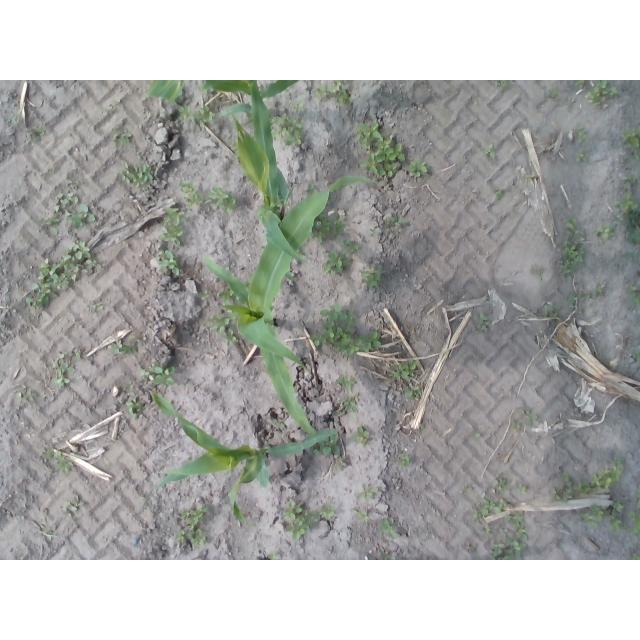Maize: (201, 177, 376, 436), (148, 390, 337, 523), (234, 80, 306, 286), (200, 80, 300, 116), (146, 80, 186, 102)
Weeds: (26, 239, 103, 314), (309, 304, 383, 357), (551, 455, 626, 502), (39, 177, 97, 232), (357, 121, 407, 178), (283, 497, 336, 541), (486, 511, 530, 558), (558, 214, 587, 283), (173, 503, 211, 549), (49, 346, 86, 390), (325, 238, 364, 279), (612, 194, 640, 245), (271, 114, 307, 150), (206, 311, 238, 346), (118, 160, 155, 190), (564, 284, 608, 308), (583, 80, 618, 110), (173, 103, 215, 127), (371, 212, 413, 236), (31, 510, 61, 543), (471, 497, 514, 520), (314, 214, 347, 242), (141, 361, 176, 387), (161, 207, 184, 246), (44, 442, 72, 474), (575, 502, 610, 527), (205, 185, 236, 211), (107, 335, 143, 356), (154, 249, 183, 275), (620, 127, 640, 162), (314, 434, 341, 456), (390, 360, 418, 381), (331, 80, 352, 108), (360, 265, 381, 292), (61, 492, 86, 514), (408, 156, 429, 180), (181, 181, 201, 206), (380, 516, 400, 540), (338, 393, 359, 415), (113, 129, 135, 149), (334, 375, 358, 393), (123, 396, 144, 416), (626, 509, 640, 538), (610, 501, 623, 532), (520, 405, 539, 425), (350, 426, 368, 447), (30, 123, 47, 145), (593, 223, 613, 241), (20, 383, 40, 401), (356, 483, 378, 499), (351, 507, 370, 525), (493, 476, 510, 496), (403, 384, 422, 401), (107, 98, 126, 115), (474, 312, 490, 332), (623, 170, 639, 190), (542, 301, 560, 318), (530, 263, 546, 282), (626, 284, 640, 305), (575, 125, 587, 148), (217, 287, 233, 303), (315, 86, 330, 103), (335, 454, 350, 471), (89, 299, 107, 313), (483, 144, 498, 160), (496, 81, 516, 92), (292, 102, 308, 115), (397, 453, 410, 467), (273, 420, 287, 433), (620, 252, 640, 261), (634, 482, 640, 511), (45, 164, 59, 176), (546, 85, 558, 98), (516, 484, 529, 496), (512, 420, 524, 432), (574, 151, 586, 162), (129, 379, 140, 391), (12, 117, 25, 127), (199, 290, 209, 303), (381, 552, 397, 560), (577, 81, 588, 92), (495, 189, 506, 199), (462, 484, 474, 492), (472, 433, 483, 440), (635, 348, 640, 363), (268, 552, 277, 560), (632, 552, 640, 560), (525, 174, 534, 179)
